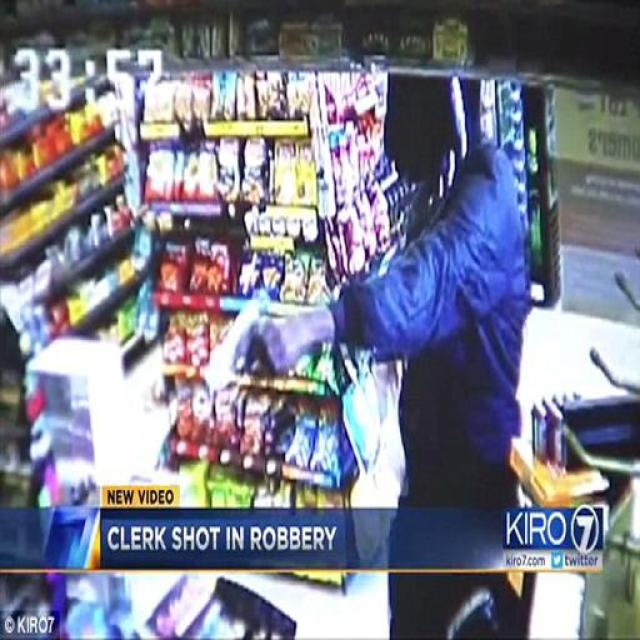pistol: (198, 281, 284, 412)
